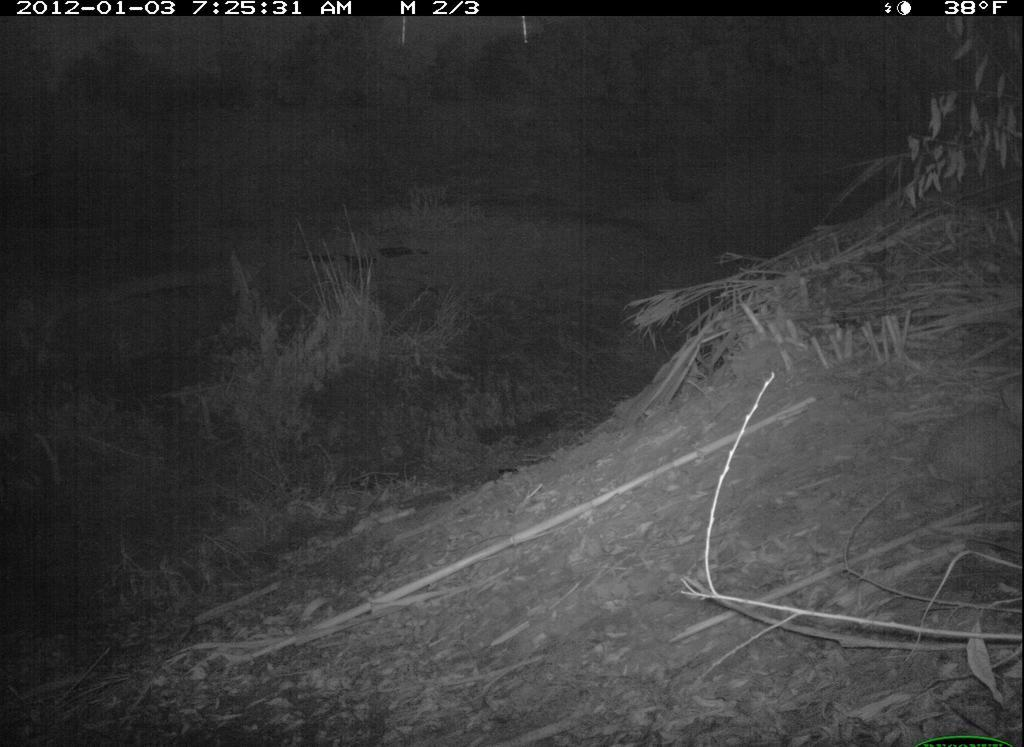rabbit: (912, 376, 1019, 511)
